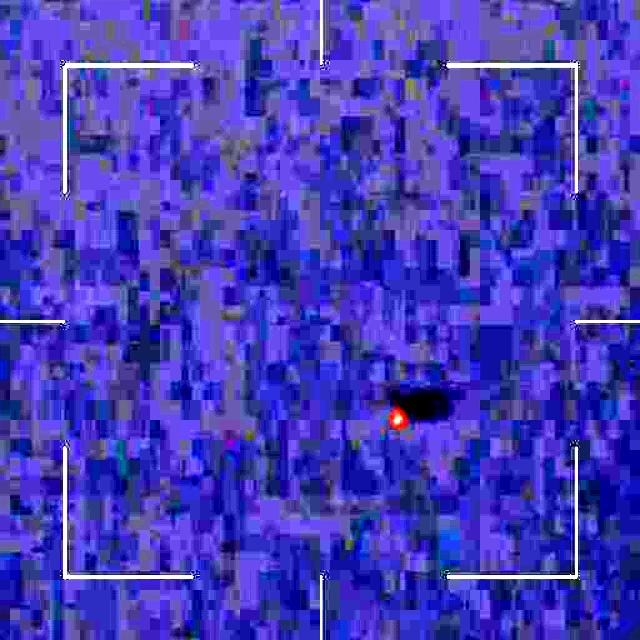bird: (384, 399, 414, 434)
